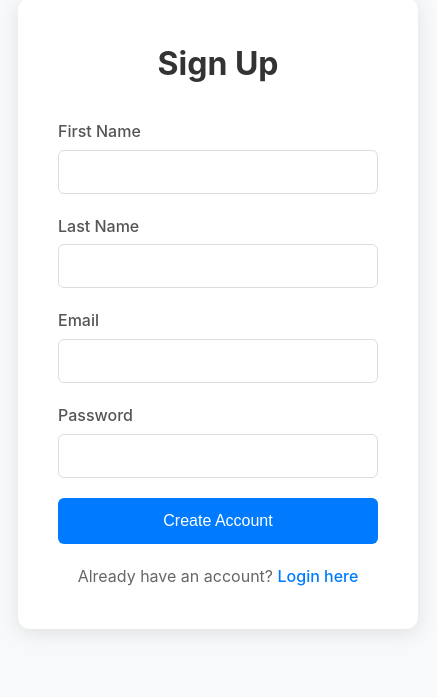
Scenario: Signup Page › Form Submission › handles generic signup error
The width and height of the screenshot is (437, 697).
In the field labelled "First Name": {"x": 218, "y": 172} [58,150,378,194], type "John"
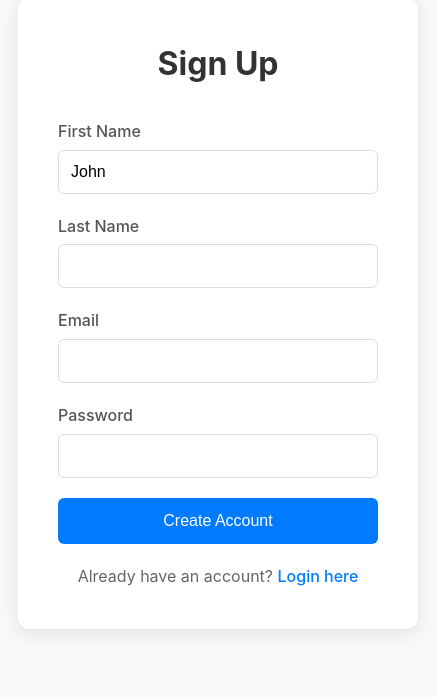
In the field labelled "Last Name": {"x": 218, "y": 266} [58,244,378,288], type "Doe"
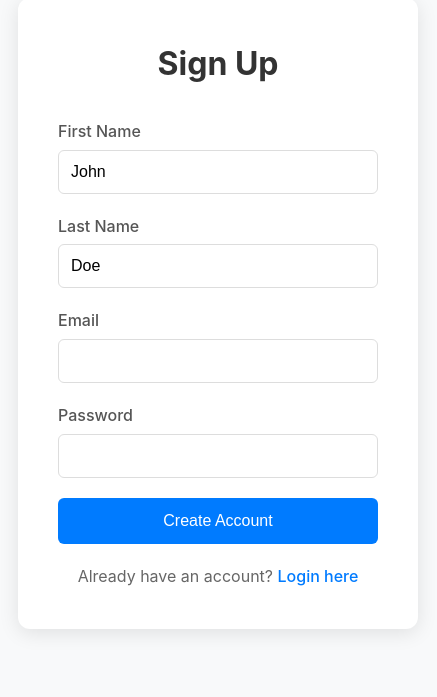
In the field labelled "Email": {"x": 218, "y": 361} [58,339,378,383], type "john.doe@example.com"
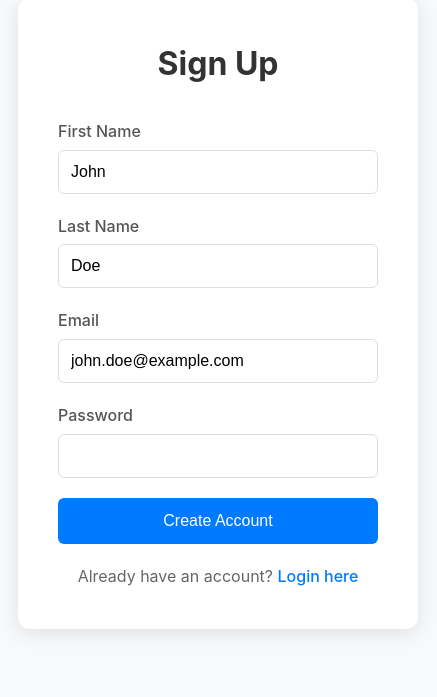
In the password field labelled "Password": {"x": 218, "y": 456} [58,434,378,478], type "Ecomm@123"
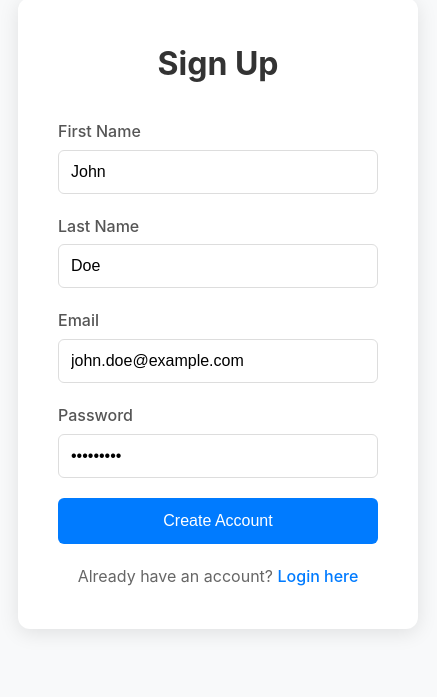
Click the button "Create Account": {"x": 218, "y": 521} [58,498,378,544]
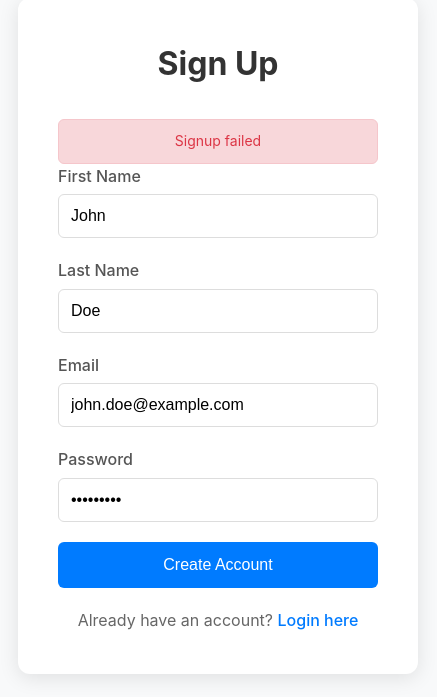
Check: the text "Signup failed" is shown, box [58,119,378,164]
